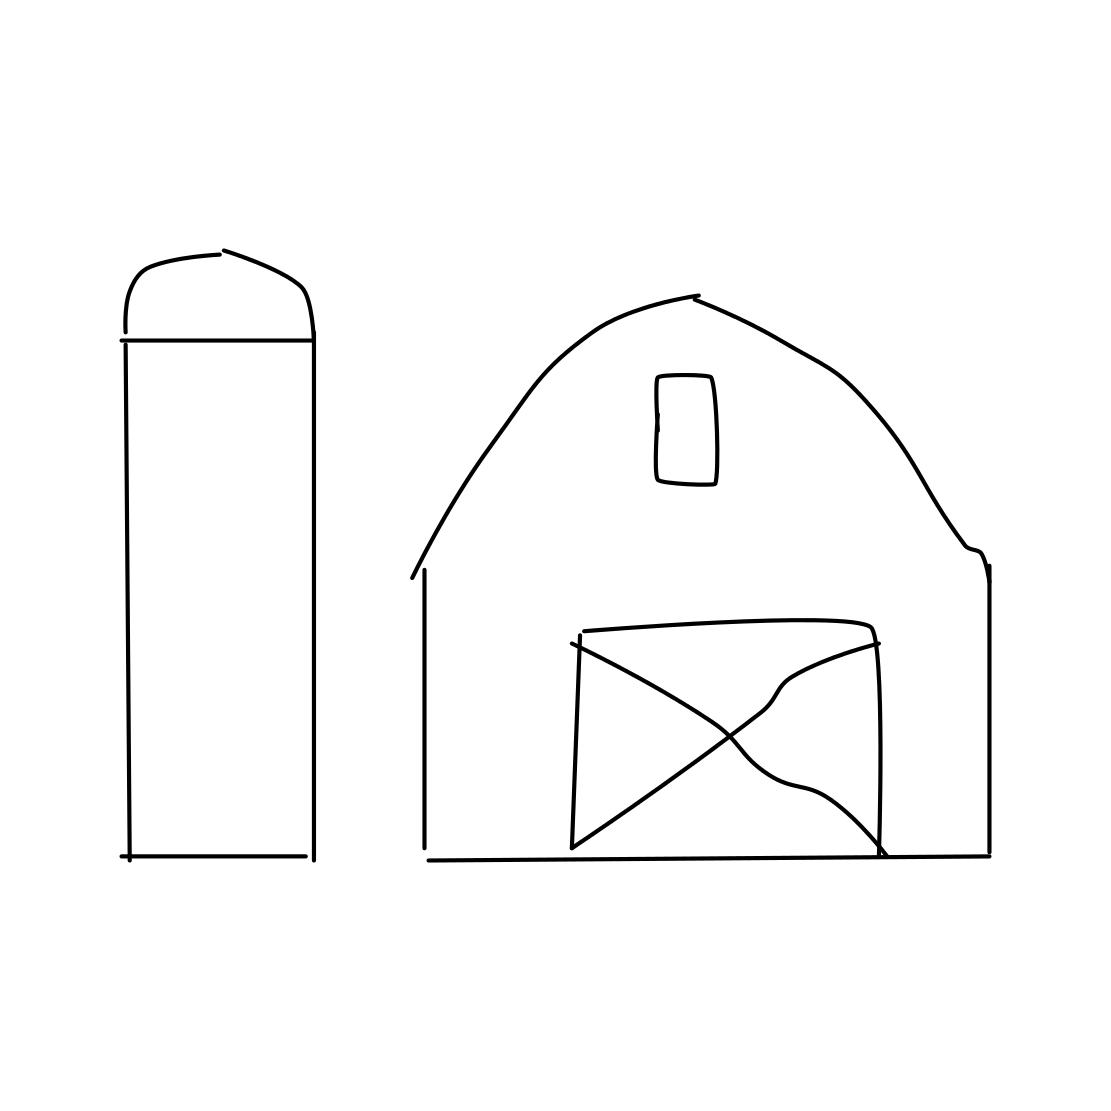House: (403, 267, 1058, 918)
